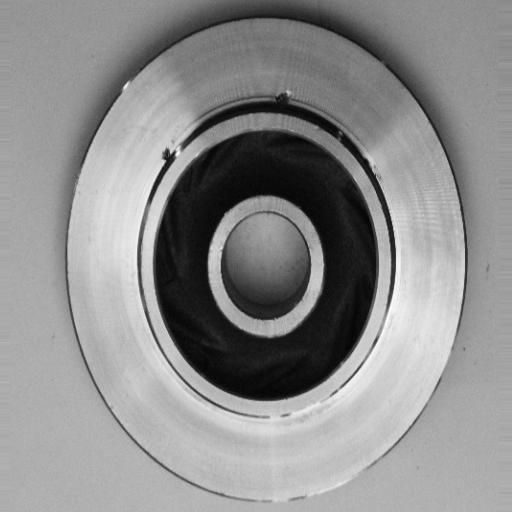crack: (153, 138, 194, 175), (270, 80, 299, 115)
scratch: (243, 391, 343, 441)
unpolished_casting: (60, 16, 467, 503)
